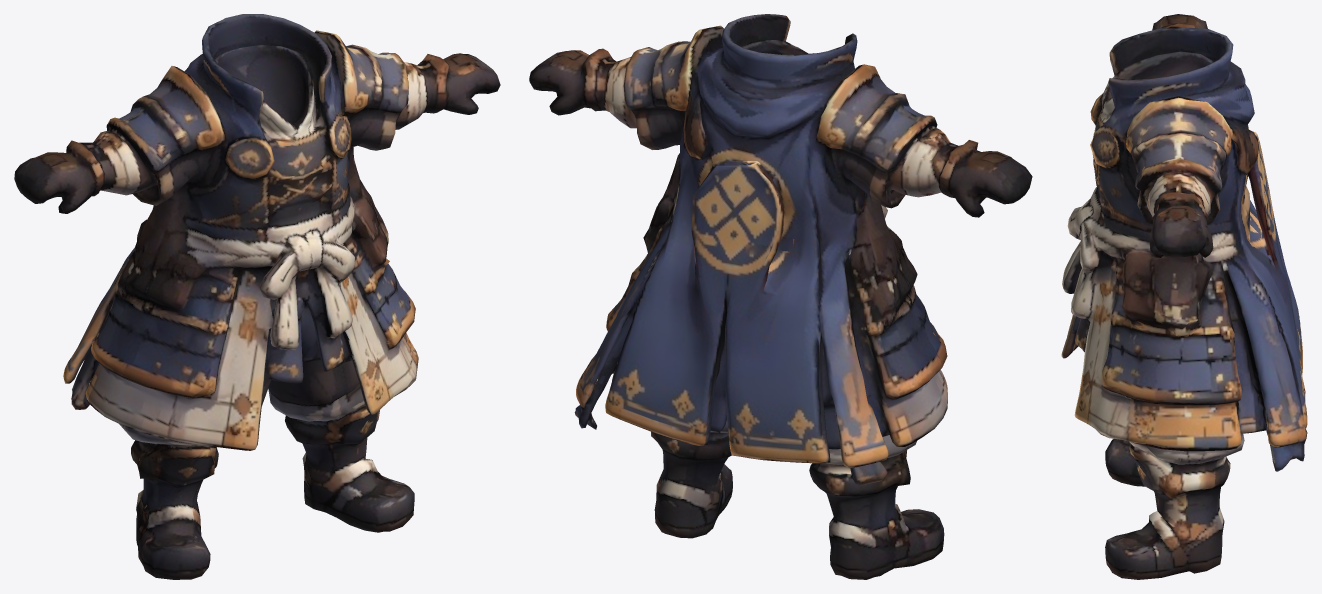
3 views of the same model, side by side, from view 1: azimuth 30°, elevation 25°; view 2: azimuth 150°, elevation 25°; view 3: azimuth 270°, elevation 25° (orthographic). The views are drawn at different scales.
Visible parts, largest first — view 1: tripo_node_3d38037a-22e4-4e2c-9e43-321869b828dd; view 2: tripo_node_3d38037a-22e4-4e2c-9e43-321869b828dd; view 3: tripo_node_3d38037a-22e4-4e2c-9e43-321869b828dd.
Boxes of the visible parts, x1=… form: tripo_node_3d38037a-22e4-4e2c-9e43-321869b828dd: x1=14, y1=14, x2=500, y2=579; tripo_node_3d38037a-22e4-4e2c-9e43-321869b828dd: x1=529, y1=14, x2=1032, y2=579; tripo_node_3d38037a-22e4-4e2c-9e43-321869b828dd: x1=1061, y1=14, x2=1307, y2=579.
Bounding box in the file's own units: 0.9727 × 0.9786 × 0.4568.
Materials: 1 (1 with a texture image).
